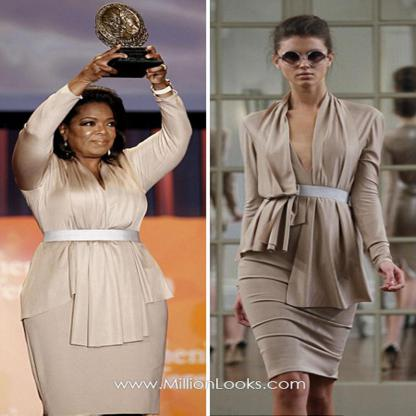face: (277, 34, 328, 88), (69, 98, 115, 156)
